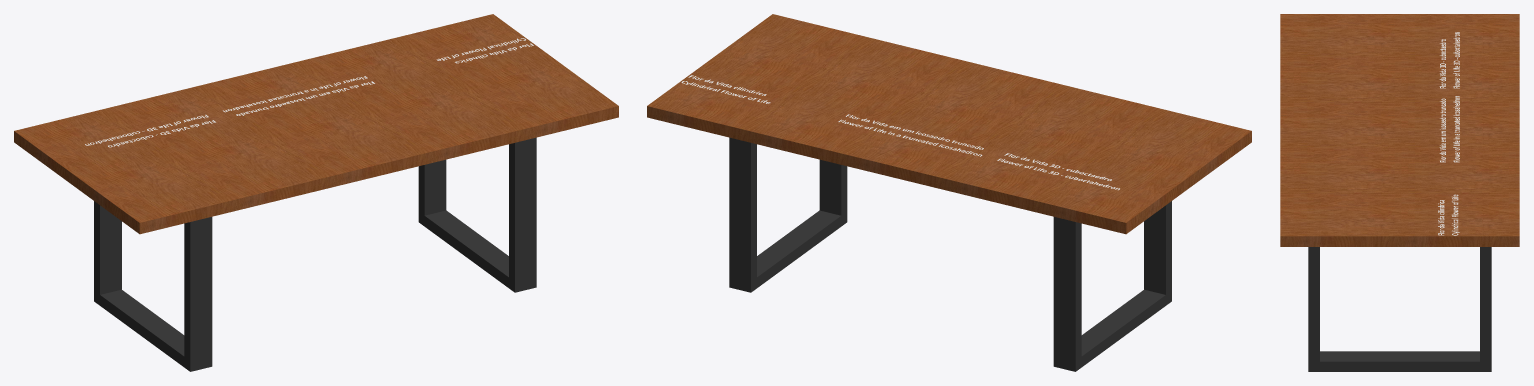
The model's file is geomSagrada2f.glb.
3 renders of one model, left to right at view 1: azimuth 30°, elevation 25°; view 2: azimuth 150°, elevation 25°; view 3: azimuth 270°, elevation 25°, orthographic. The views are drawn at different scales.
Visible parts, largest first — view 1: object 1, Composant#1 (×2), Flor da Vida em, Flor da Vida 3D; view 2: object 1, Composant#1 (×2), Flor da Vida em, Flor da Vida 3D; view 3: object 1, Composant#1, Flor da Vida em, Flor da Vida 3D, Flor da Vida cil.
Boxes of the visible parts, box(x1,y1,x2,y2) form: object 1: box(14, 14, 618, 234); Composant#1 (×2): box(94, 137, 536, 371); Flor da Vida em: box(223, 76, 374, 115); Flor da Vida 3D: box(85, 114, 215, 147); object 1: box(647, 14, 1251, 234); Composant#1 (×2): box(729, 137, 1171, 371); Flor da Vida em: box(838, 114, 983, 156); Flor da Vida 3D: box(997, 153, 1119, 190); object 1: box(1280, 14, 1519, 246); Composant#1: box(1308, 247, 1491, 371); Flor da Vida em: box(1439, 96, 1459, 162); Flor da Vida 3D: box(1439, 32, 1459, 88); Flor da Vida cil: box(1438, 194, 1459, 235).
Size of the model in its own units: 2.2 by 0.771 by 1.
Materials: 3 (1 with a texture image).
